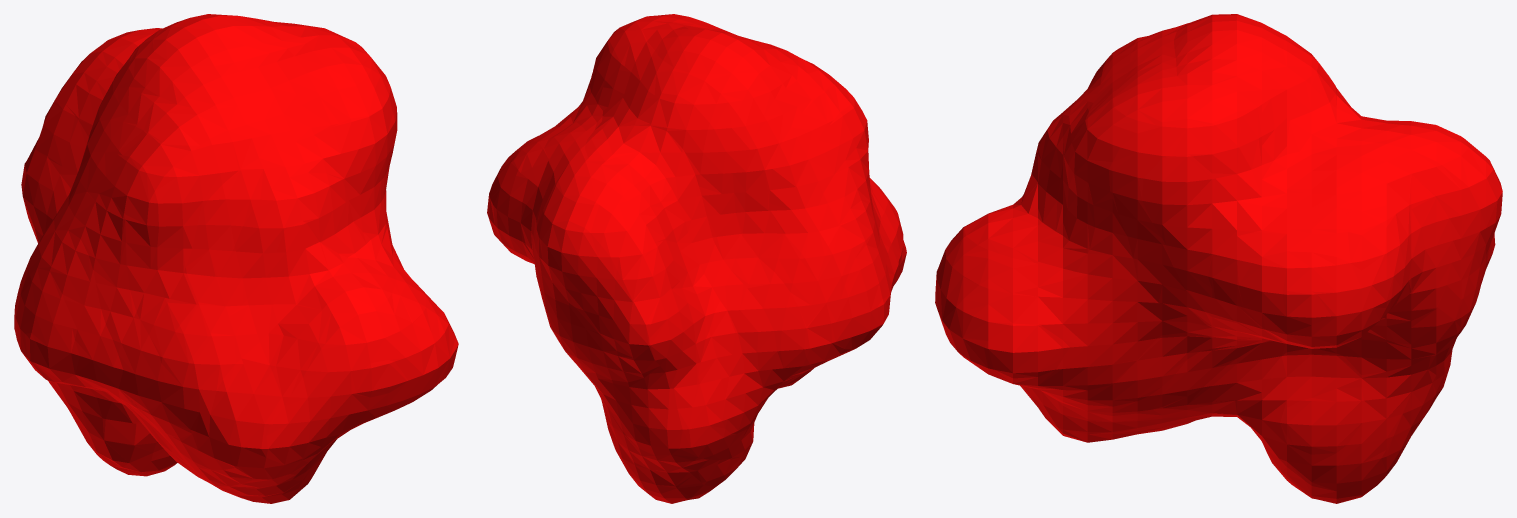
The model's file is rplR_coarse.dae.
3 views of the same model, side by side, from view 1: azimuth 30°, elevation 25°; view 2: azimuth 150°, elevation 25°; view 3: azimuth 270°, elevation 25° (orthographic). The views are drawn at different scales.
Visible parts, largest first — view 1: rplR; view 2: rplR; view 3: rplR.
Part boxes in pixels (left/top/right/bottom): rplR: left=14, top=14, right=458, bottom=503; rplR: left=487, top=14, right=906, bottom=503; rplR: left=935, top=14, right=1502, bottom=503.
Size of the model in its own units: 35.93 by 42.64 by 45.49.
